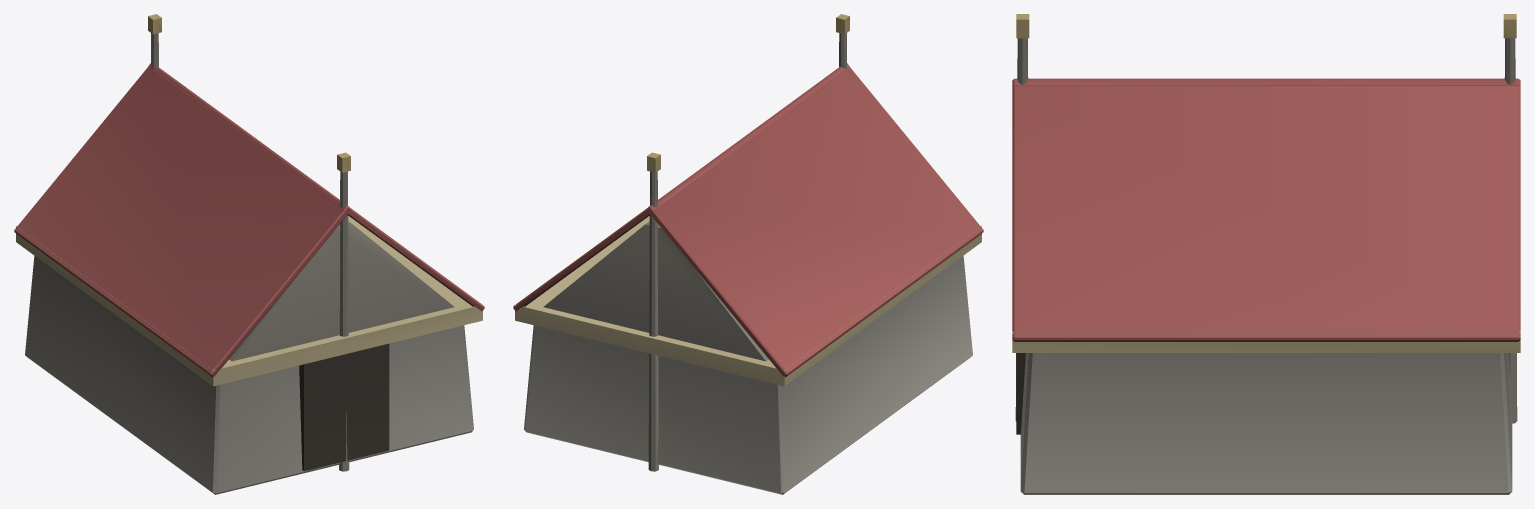
Rendered from camp_tent_l1_lod2.glb.
3 renders of one model, left to right at view 1: azimuth 30°, elevation 25°; view 2: azimuth 150°, elevation 25°; view 3: azimuth 270°, elevation 25°, orthographic. The views are drawn at different scales.
Parts seen in each view (by area): view 1: camp_tent_l1_lod2; view 2: camp_tent_l1_lod2; view 3: camp_tent_l1_lod2.
Part boxes in pixels (x1=…): camp_tent_l1_lod2: x1=14, y1=14, x2=484, y2=494; camp_tent_l1_lod2: x1=513, y1=14, x2=983, y2=494; camp_tent_l1_lod2: x1=1012, y1=14, x2=1520, y2=494.
Size of the model in its own units: 4.36 by 4.76 by 5.42.
